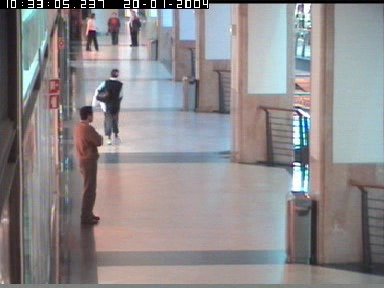person: (74, 105, 103, 225), (92, 68, 123, 145), (128, 11, 142, 47), (84, 13, 97, 51), (107, 12, 121, 46)
